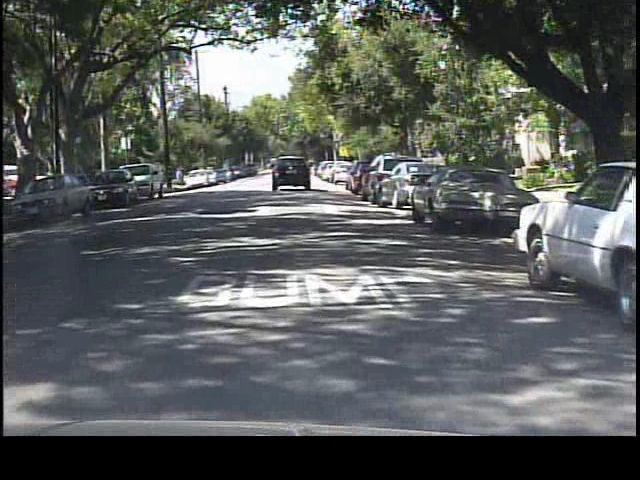person: (175, 165, 188, 193)
